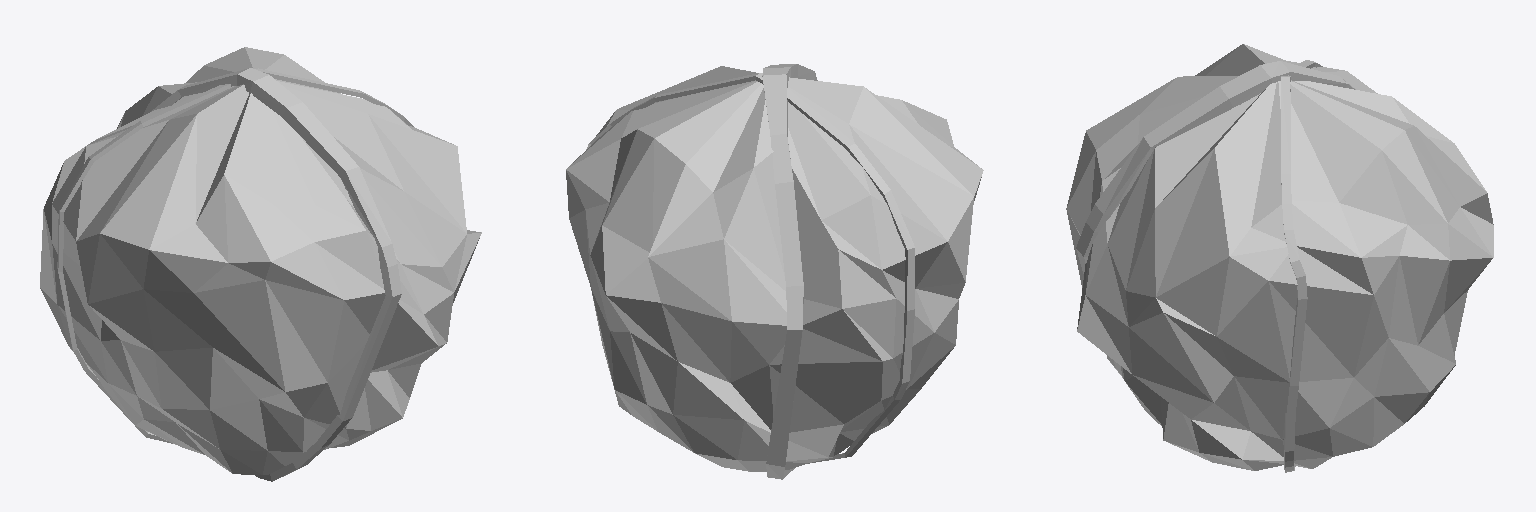
File: ball.obj
3 renders of one model, left to right at view 1: azimuth 30°, elevation 25°; view 2: azimuth 150°, elevation 25°; view 3: azimuth 270°, elevation 25°, orthographic.
Parts seen in each view (by area): view 1: ball_lo; view 2: ball_lo; view 3: ball_lo.
Boxes of the visible parts, box(x1,y1,x2,y2) form: ball_lo: box(40, 47, 481, 481); ball_lo: box(566, 64, 983, 479); ball_lo: box(1066, 44, 1493, 472).
Size of the model in its own units: 39.54 by 38.46 by 40.01.